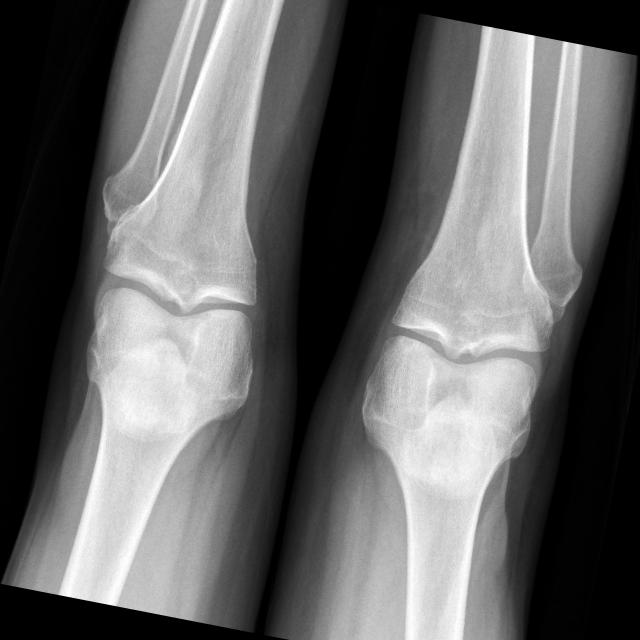Knee: (84, 222, 278, 389), (364, 272, 563, 432)
